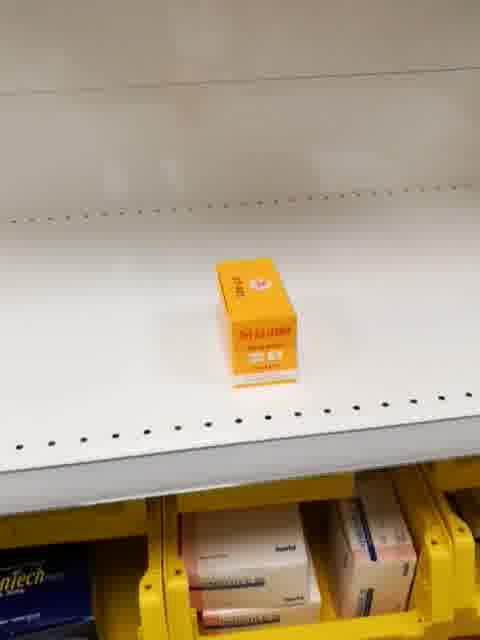jasminetea: (213, 255, 300, 389)
